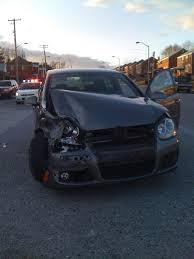Broken-glass: (52, 118, 77, 139)
Dent: (35, 99, 91, 168)
